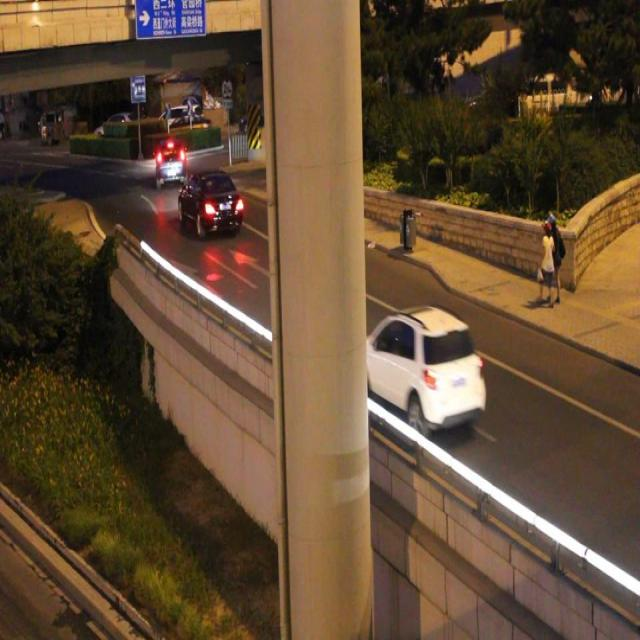car: (354, 302, 485, 434), (177, 170, 243, 237), (154, 140, 187, 186)
